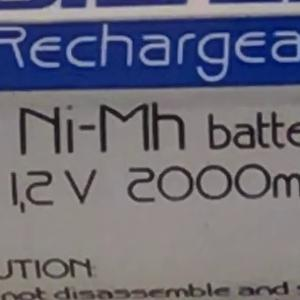keyword: (9, 92, 186, 165)
